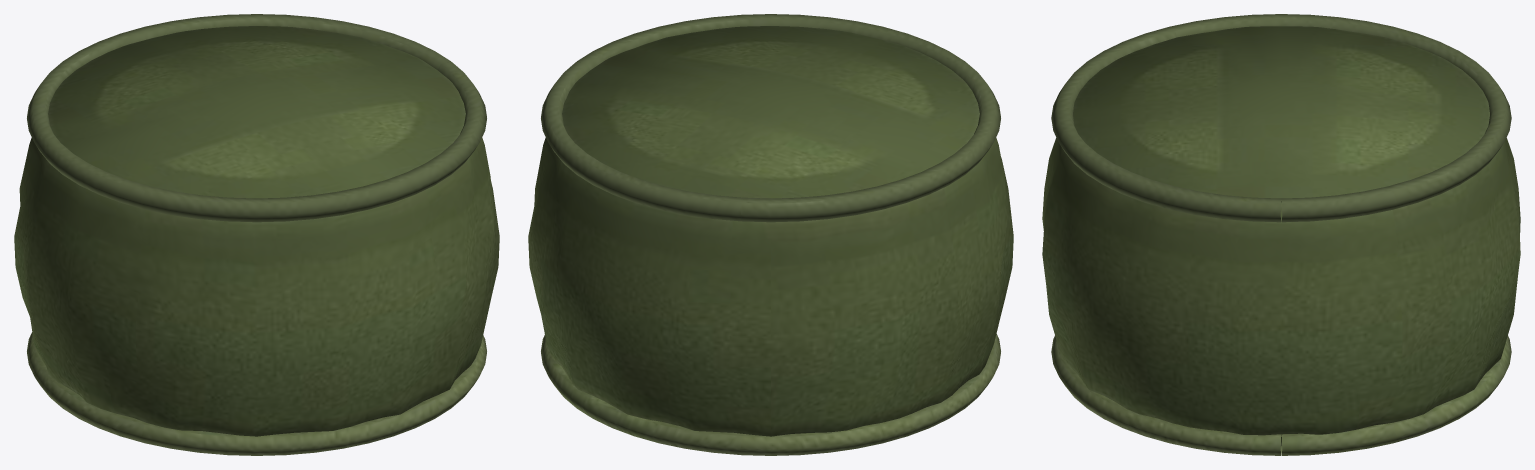
The model's file is pouf_moss.glb.
3 views of the same model, side by side, from view 1: azimuth 30°, elevation 25°; view 2: azimuth 150°, elevation 25°; view 3: azimuth 270°, elevation 25° (orthographic).
Visible parts, largest first — view 1: prop_pouf_moss_felt; view 2: prop_pouf_moss_felt; view 3: prop_pouf_moss_felt.
Boxes of the visible parts, x1=… form: prop_pouf_moss_felt: x1=14, y1=14, x2=499, y2=455; prop_pouf_moss_felt: x1=528, y1=14, x2=1013, y2=455; prop_pouf_moss_felt: x1=1042, y1=14, x2=1520, y2=455.
Bounding box in the file's own units: 1.28 × 0.7877 × 1.28.
Materials: 1 (1 with a texture image).
